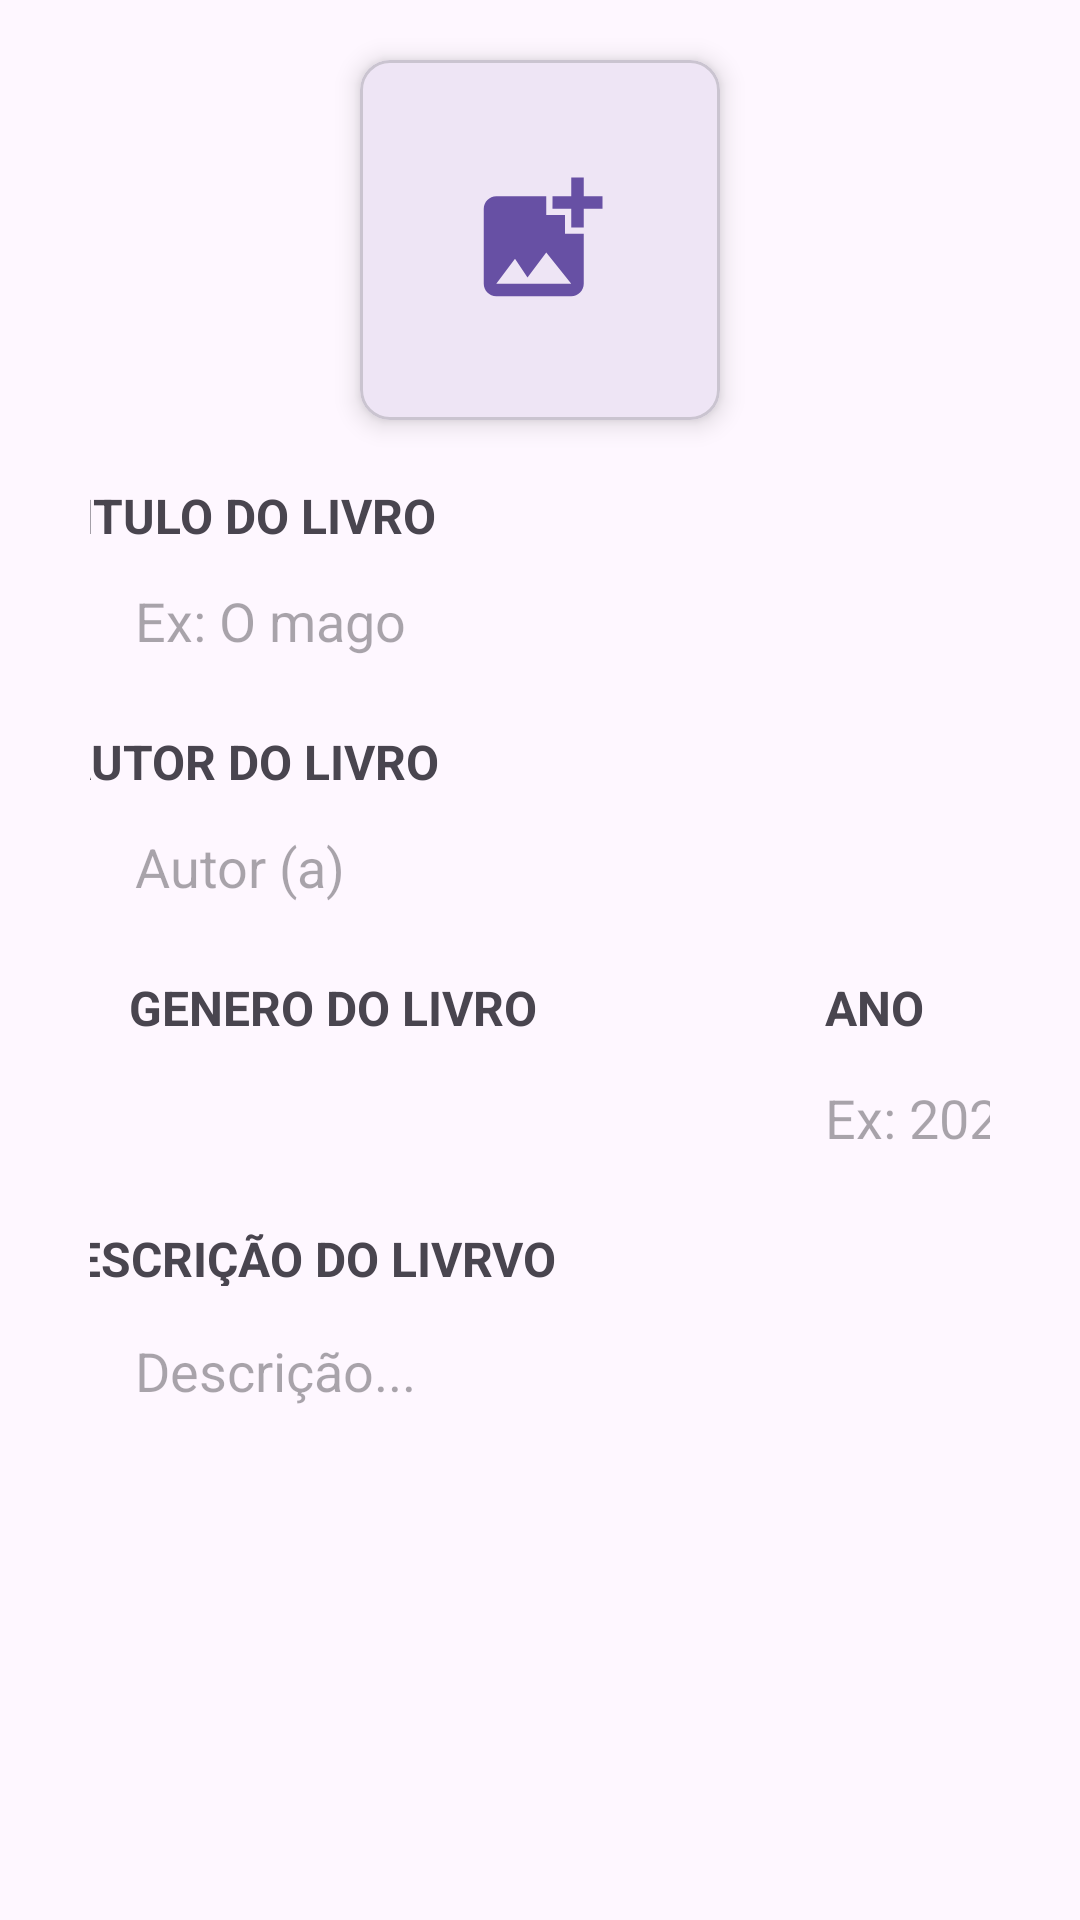

Icons on this 1080px×1920px Android screen, each with its box as (x1, y1, x2, y2):
addfoto: (483, 177, 603, 297)
